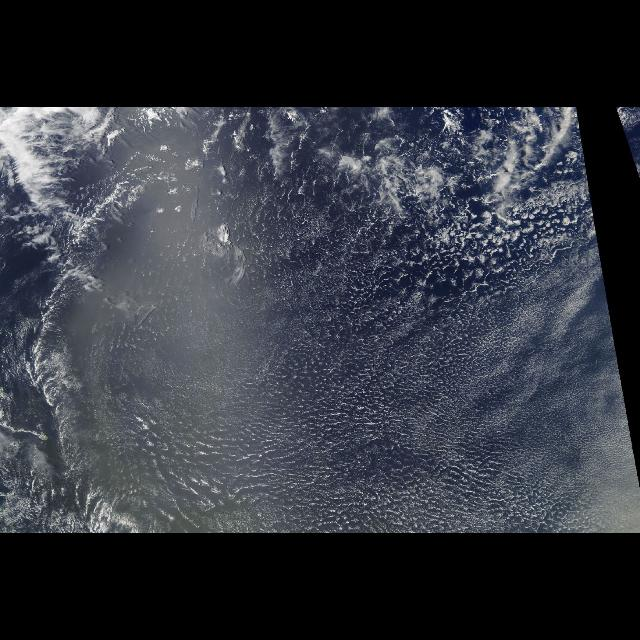Gravel: (151, 108, 563, 304)
Sugar: (111, 221, 639, 533)
